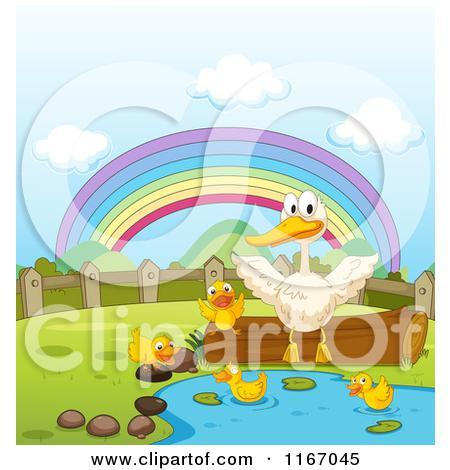bird: (225, 185, 379, 366), (191, 279, 250, 335), (121, 322, 179, 373), (211, 360, 269, 403), (342, 371, 397, 409)
